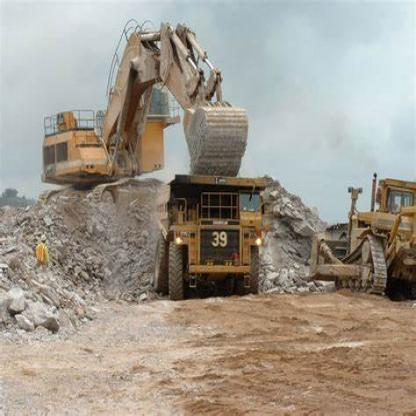bull_dozer/loader/grader: (310, 156, 415, 303)
dump_truck: (160, 172, 272, 304)
excavator: (41, 19, 268, 220)
